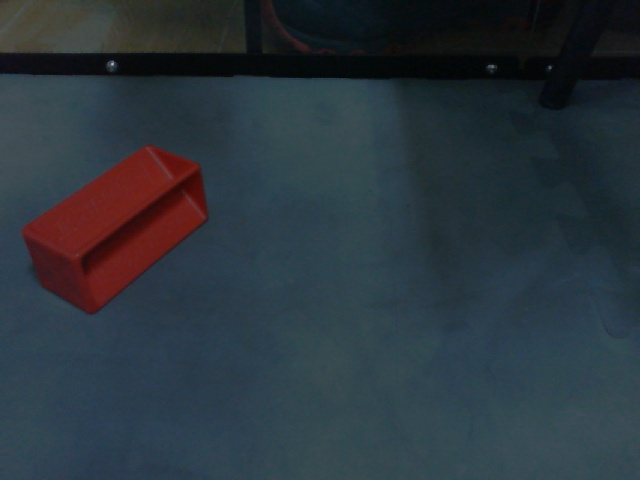RedSample: (19, 141, 212, 318)
